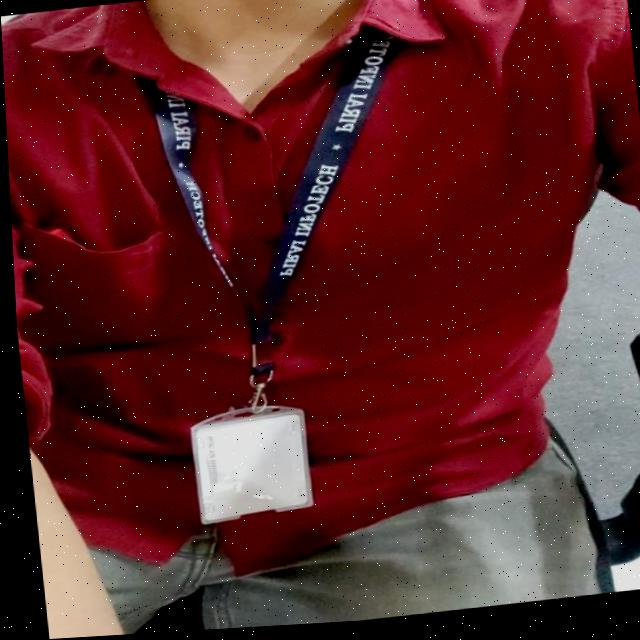id_card: (137, 32, 436, 534), (186, 250, 307, 527), (142, 82, 232, 297)
